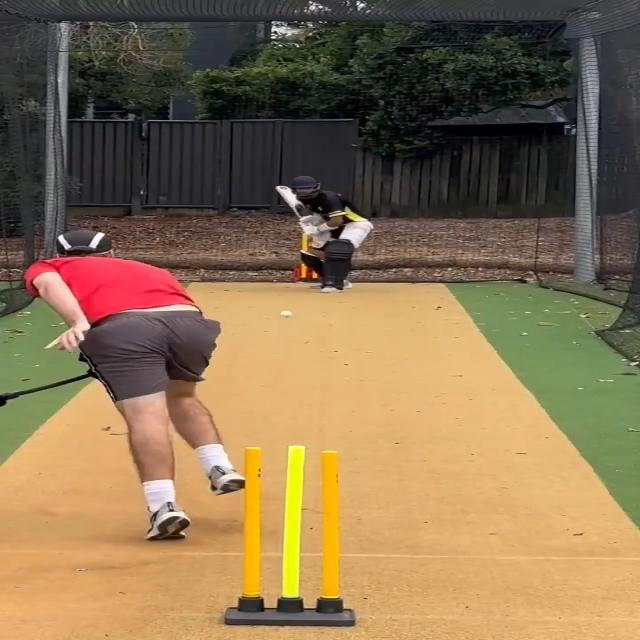ball: (280, 310, 293, 318)
stump: (222, 446, 356, 625)
